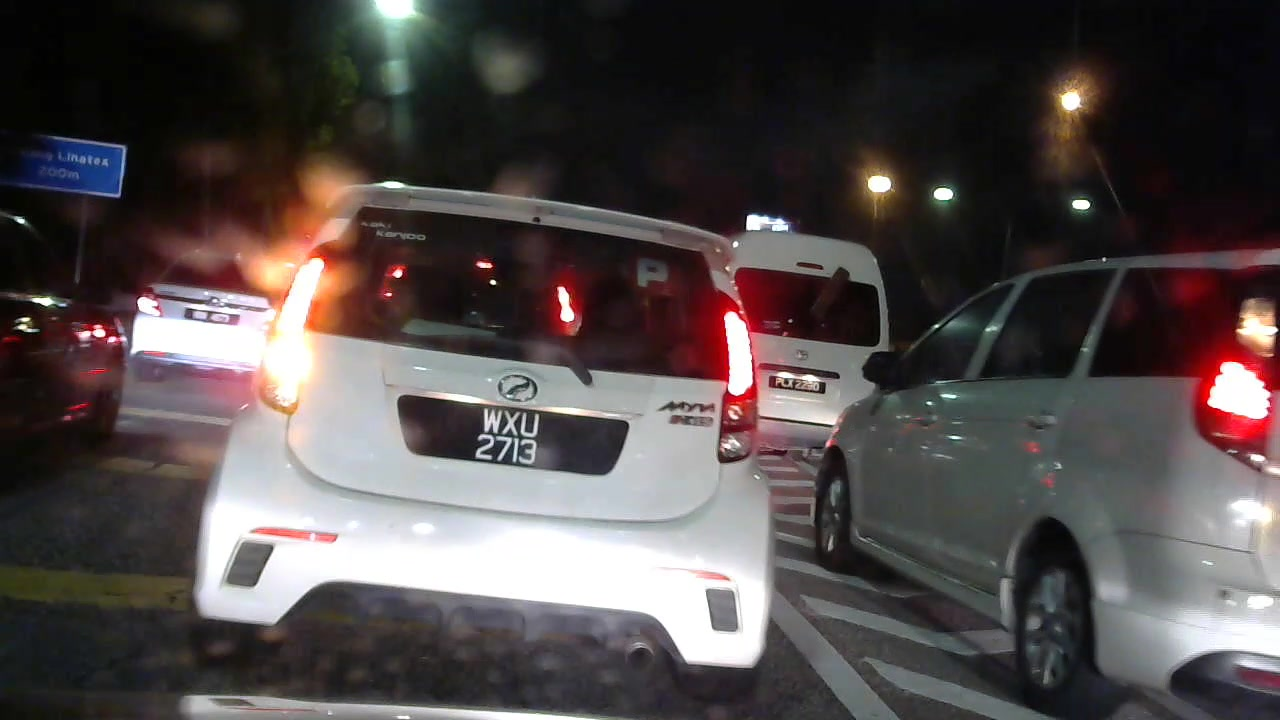Car: (235, 172, 779, 678), (800, 209, 1277, 707), (1, 205, 140, 446), (128, 233, 296, 376)
